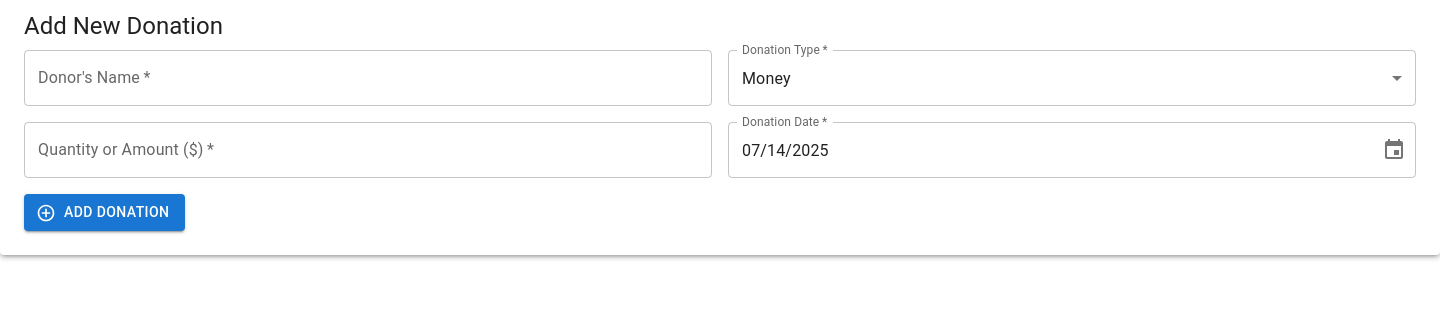
DonationForm › shows validation errors for empty required fields on submit
The image size is (1440, 323).
Click the button "Add Donation" at (105, 213), box [24,194,185,231]
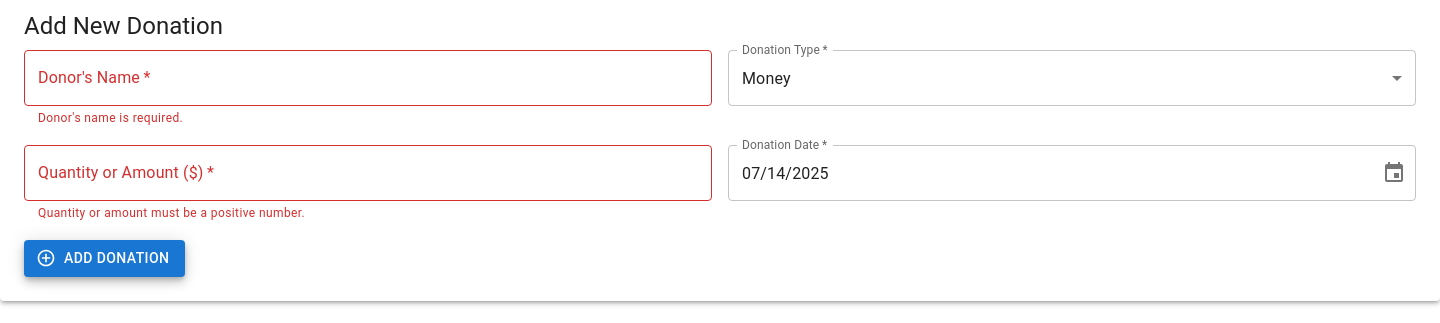
Expected: the text "Donor's name is required." is shown, [38,111,183,125]
Expected: the text "Quantity or amount must be a positive number." is shown, [38,206,305,220]
